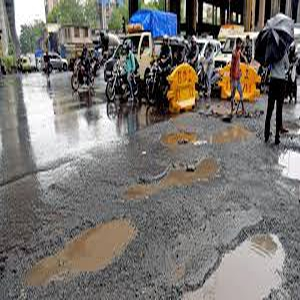pothole: (168, 220, 293, 300), (16, 214, 139, 283)
